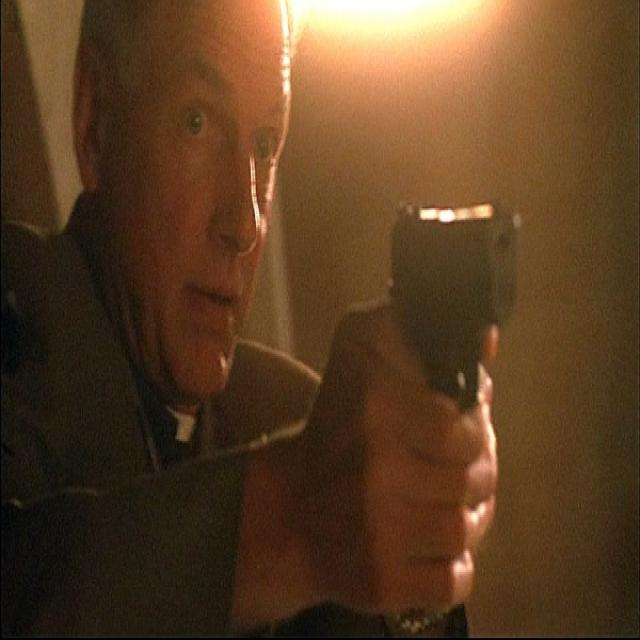weapons: (363, 176, 551, 479)
